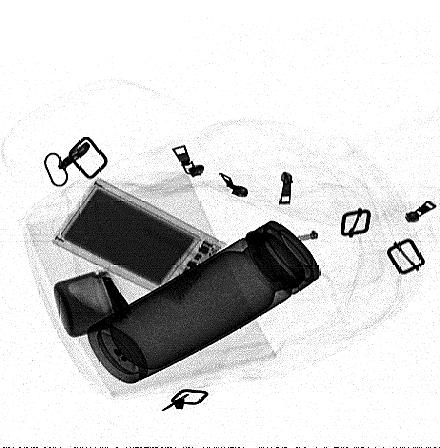Powerbank: (49, 178, 227, 305)
